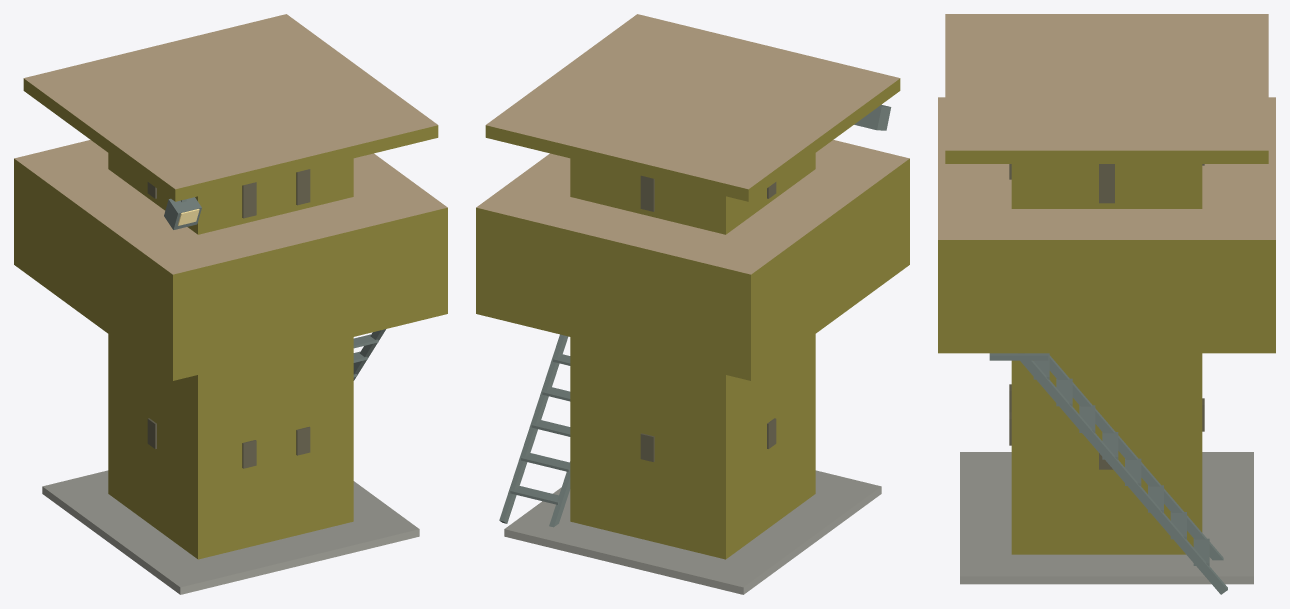
File: SM_TorretaVigia_v1_LOD0.fbx
3 renders of one model, left to right at view 1: azimuth 30°, elevation 25°; view 2: azimuth 150°, elevation 25°; view 3: azimuth 270°, elevation 25°, orthographic. The views are drawn at different scales.
Parts seen in each view (by area): view 1: SM_torreta_vigia_v1_LOD0; view 2: SM_torreta_vigia_v1_LOD0; view 3: SM_torreta_vigia_v1_LOD0.
Part boxes in pixels (x1,y1,x2,y2): SM_torreta_vigia_v1_LOD0: (14, 14, 447, 594); SM_torreta_vigia_v1_LOD0: (476, 14, 909, 594); SM_torreta_vigia_v1_LOD0: (938, 14, 1275, 594).
Bounding box in the file's own units: 4.65 × 6.64 × 4.6.
